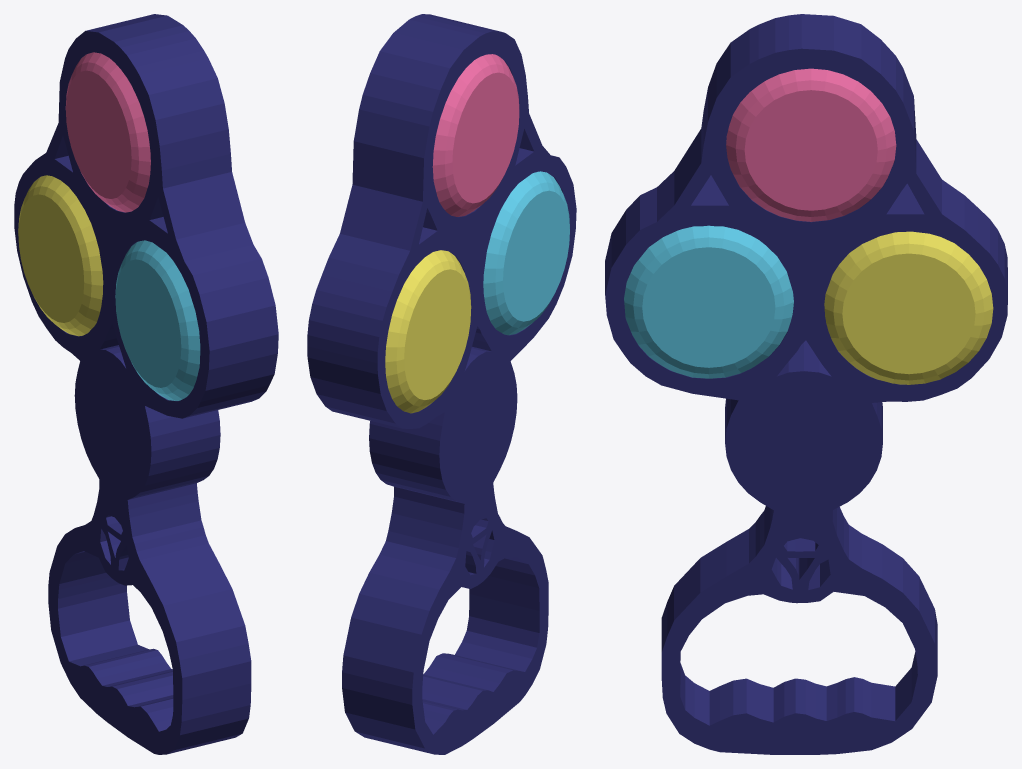
The model's file is Chocalho.fbx.
3 renders of one model, left to right at view 1: azimuth 30°, elevation 25°; view 2: azimuth 150°, elevation 25°; view 3: azimuth 270°, elevation 25°, orthographic. The views are drawn at different scales.
Visible parts, largest first — view 1: Plane; view 2: Plane; view 3: Plane.
Boxes of the visible parts, x1,y1,x2,y2 form: Plane: [14, 14, 278, 754]; Plane: [307, 14, 576, 754]; Plane: [605, 14, 1007, 754].
Bounding box in the file's own units: 63.38 × 458 × 237.
